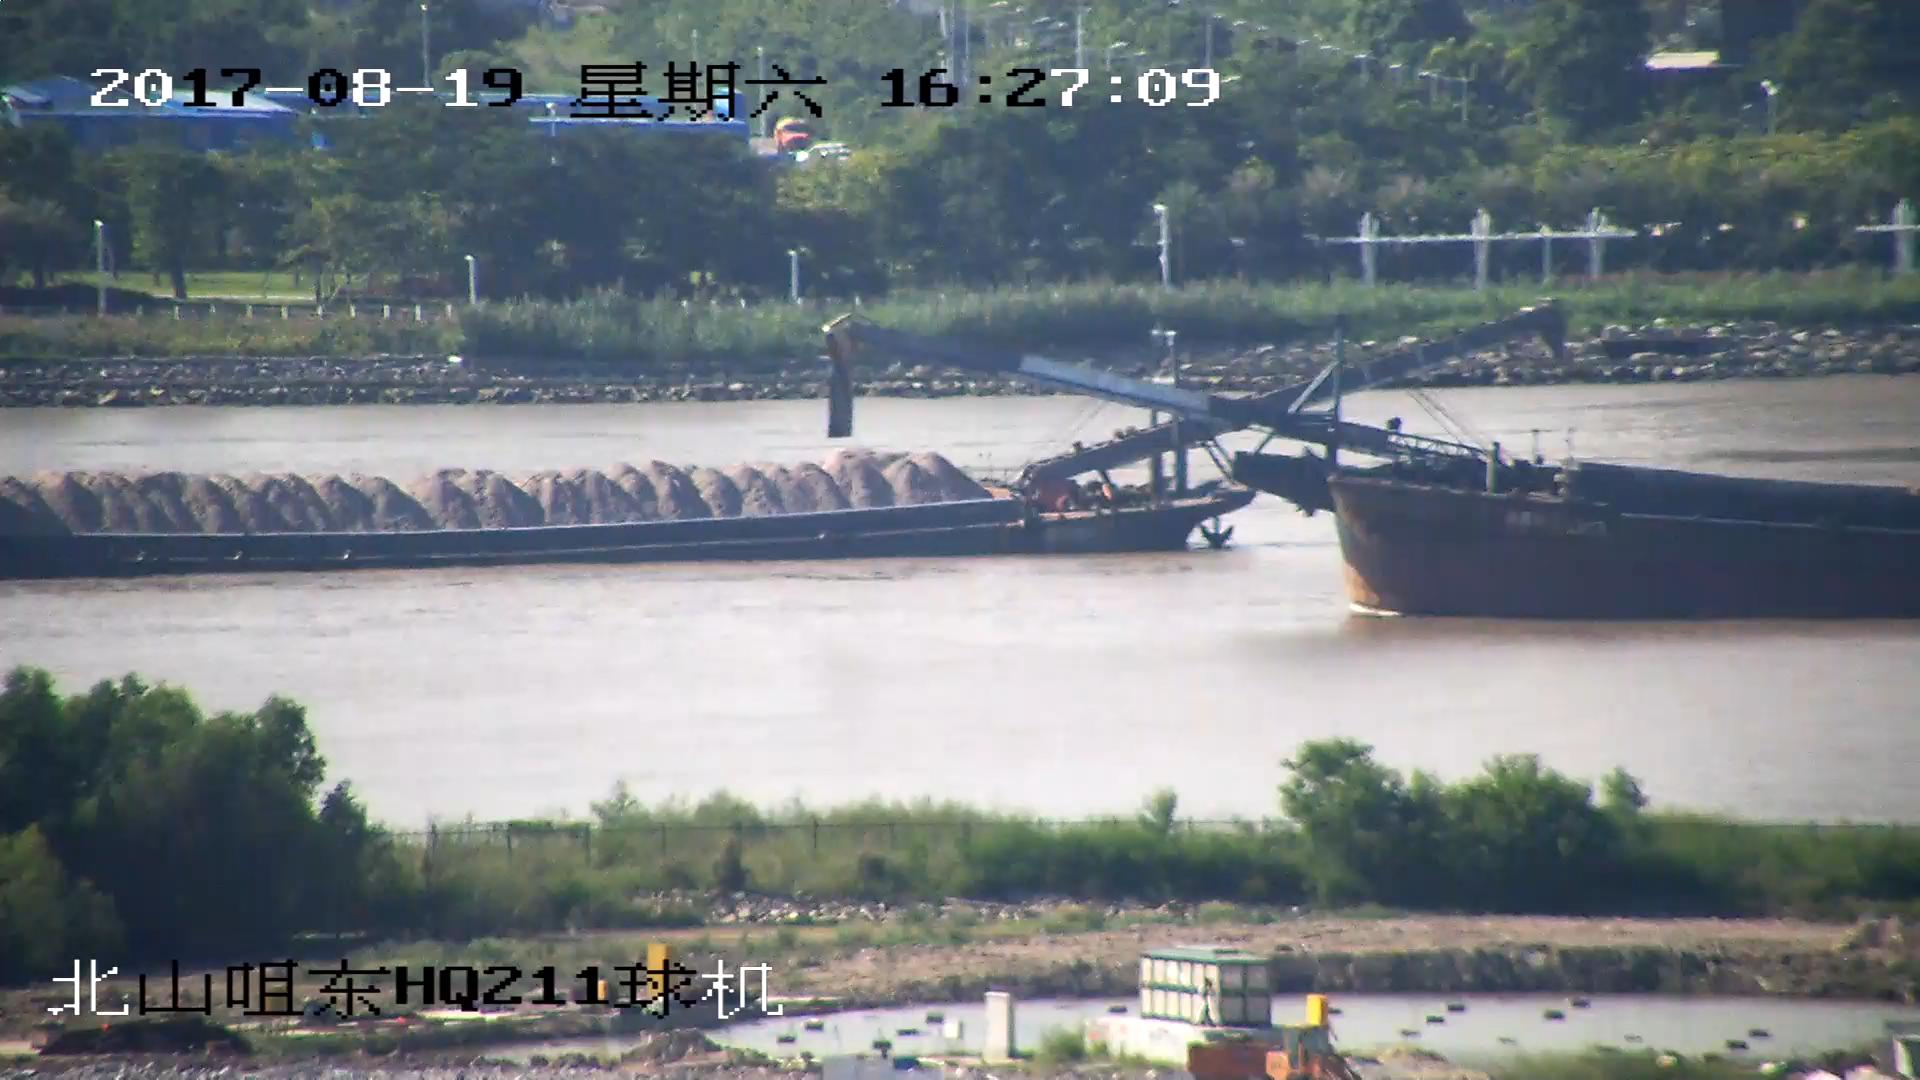bulk cargo carrier: (820, 321, 1920, 624)
ore carrier: (1, 304, 1556, 584)
